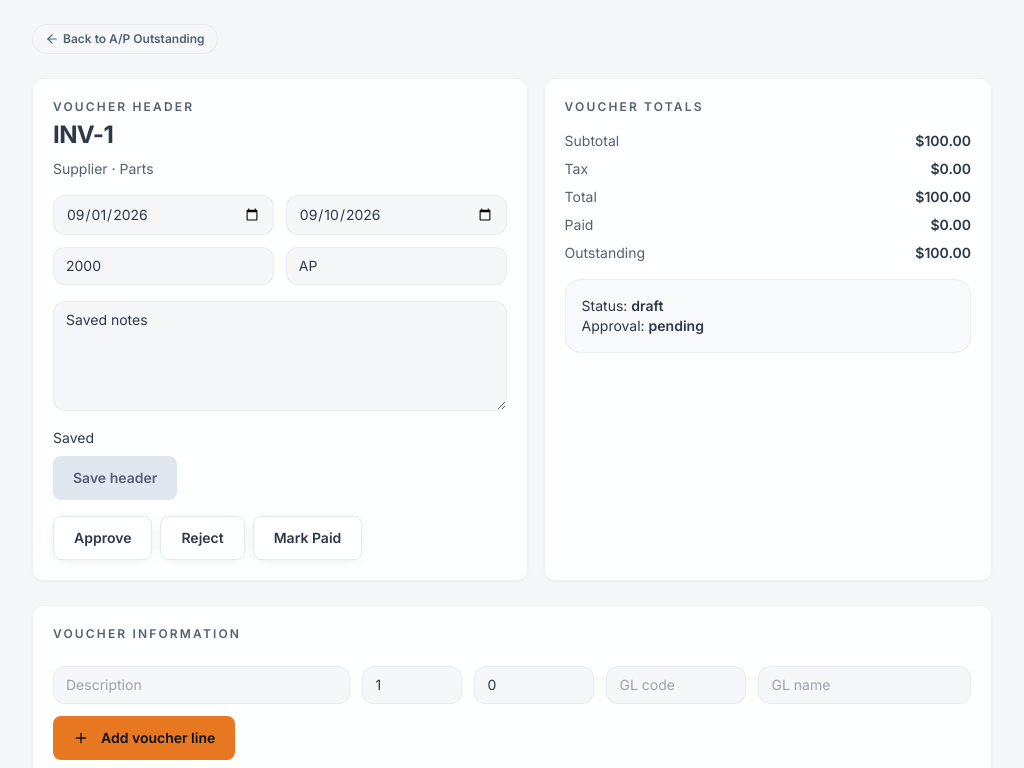
zero-row update is a conflict failure rather than success
Replace the text in the text box with placeholder "Notes" with "Conflicting edit" at (280, 356), box top-left (53, 301), bottom-right (507, 411)
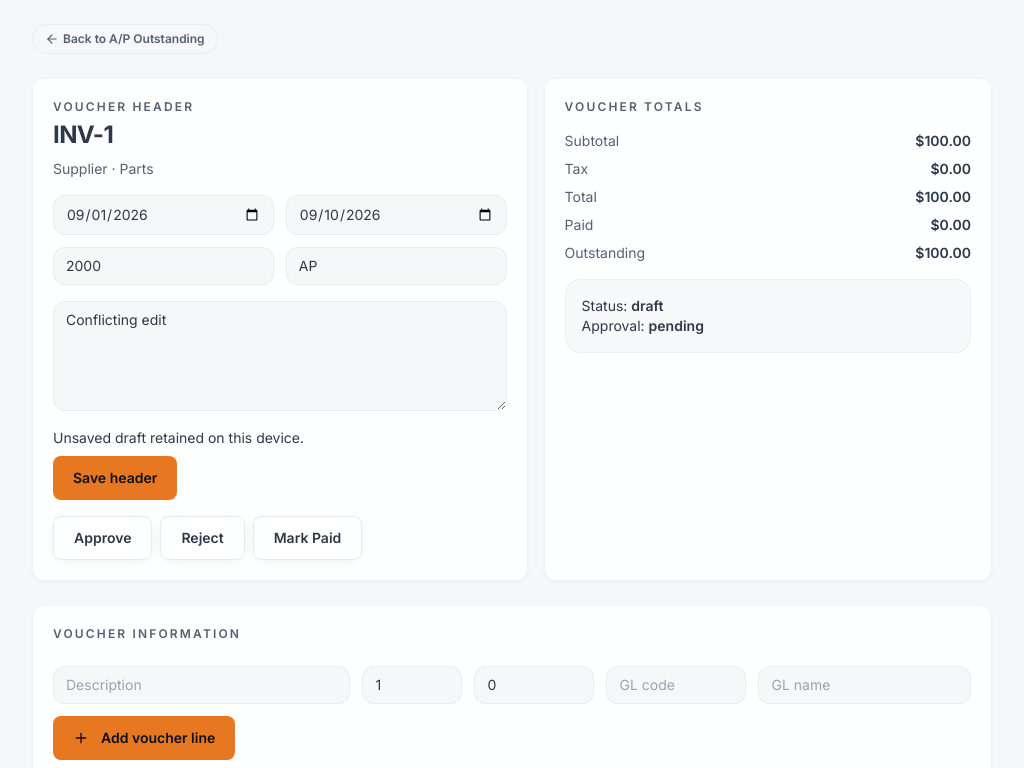
Click the button "Save header" at (115, 478), box top-left (53, 456), bottom-right (177, 500)
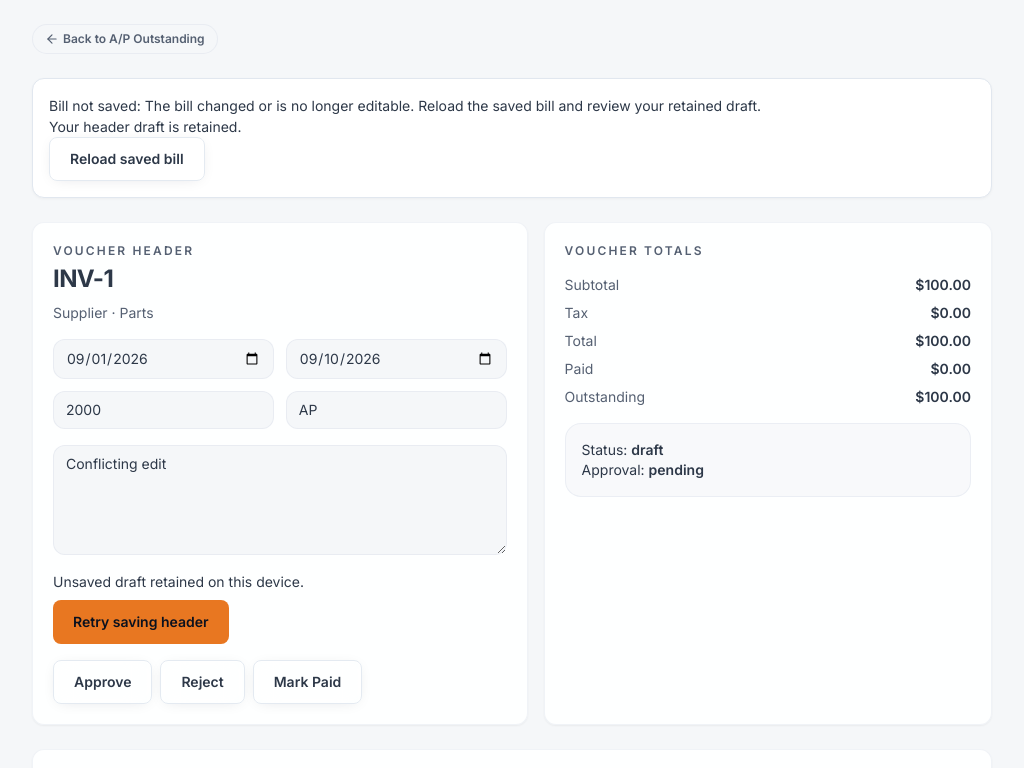
Now the text "Bill not saved: The bill changed" is shown, box top-left (49, 97), bottom-right (761, 114)
